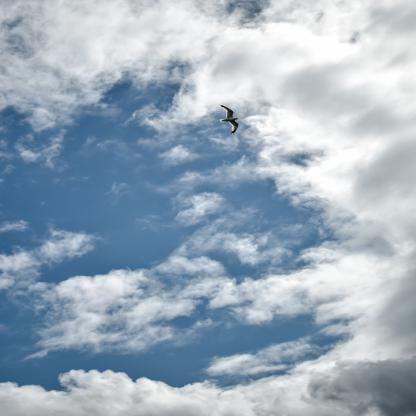bird: (215, 102, 241, 134)
